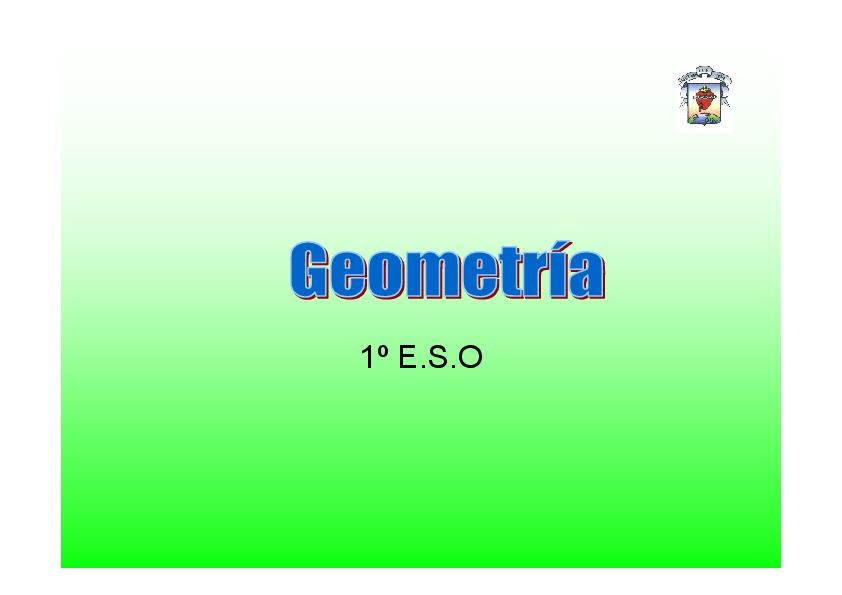title: (263, 215, 644, 334)
